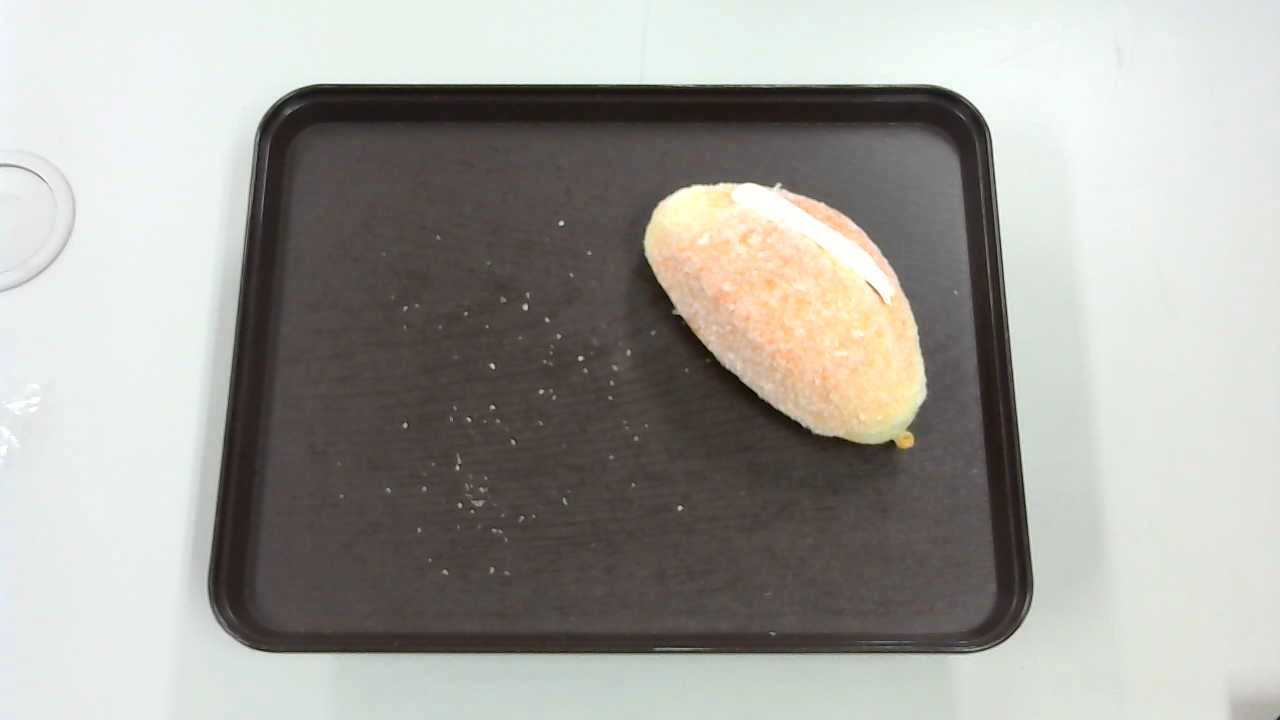coconut: (643, 182, 929, 450)
